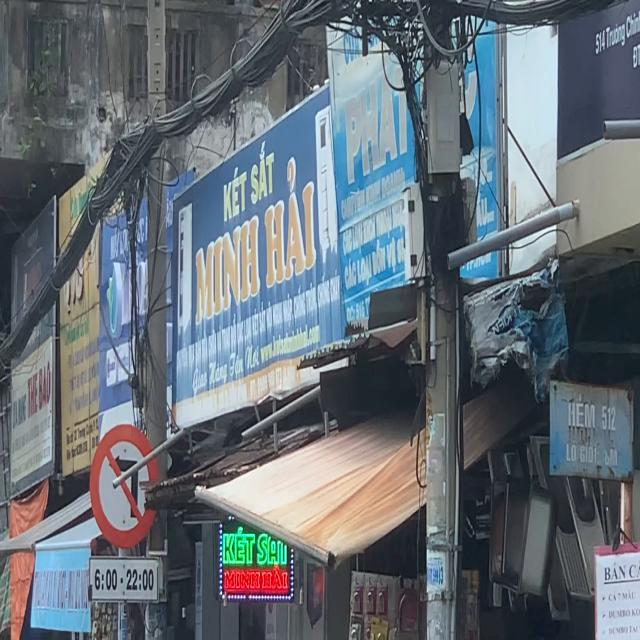Cam re trai: (90, 424, 159, 549)
